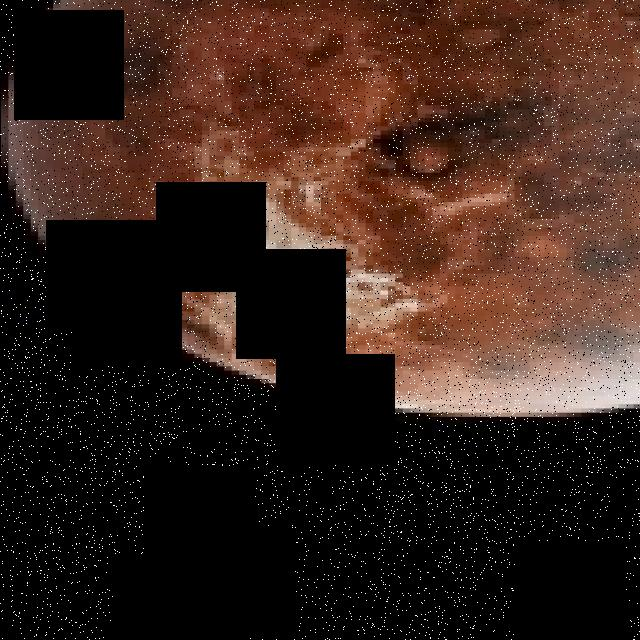Venus: (0, 0, 640, 421)
